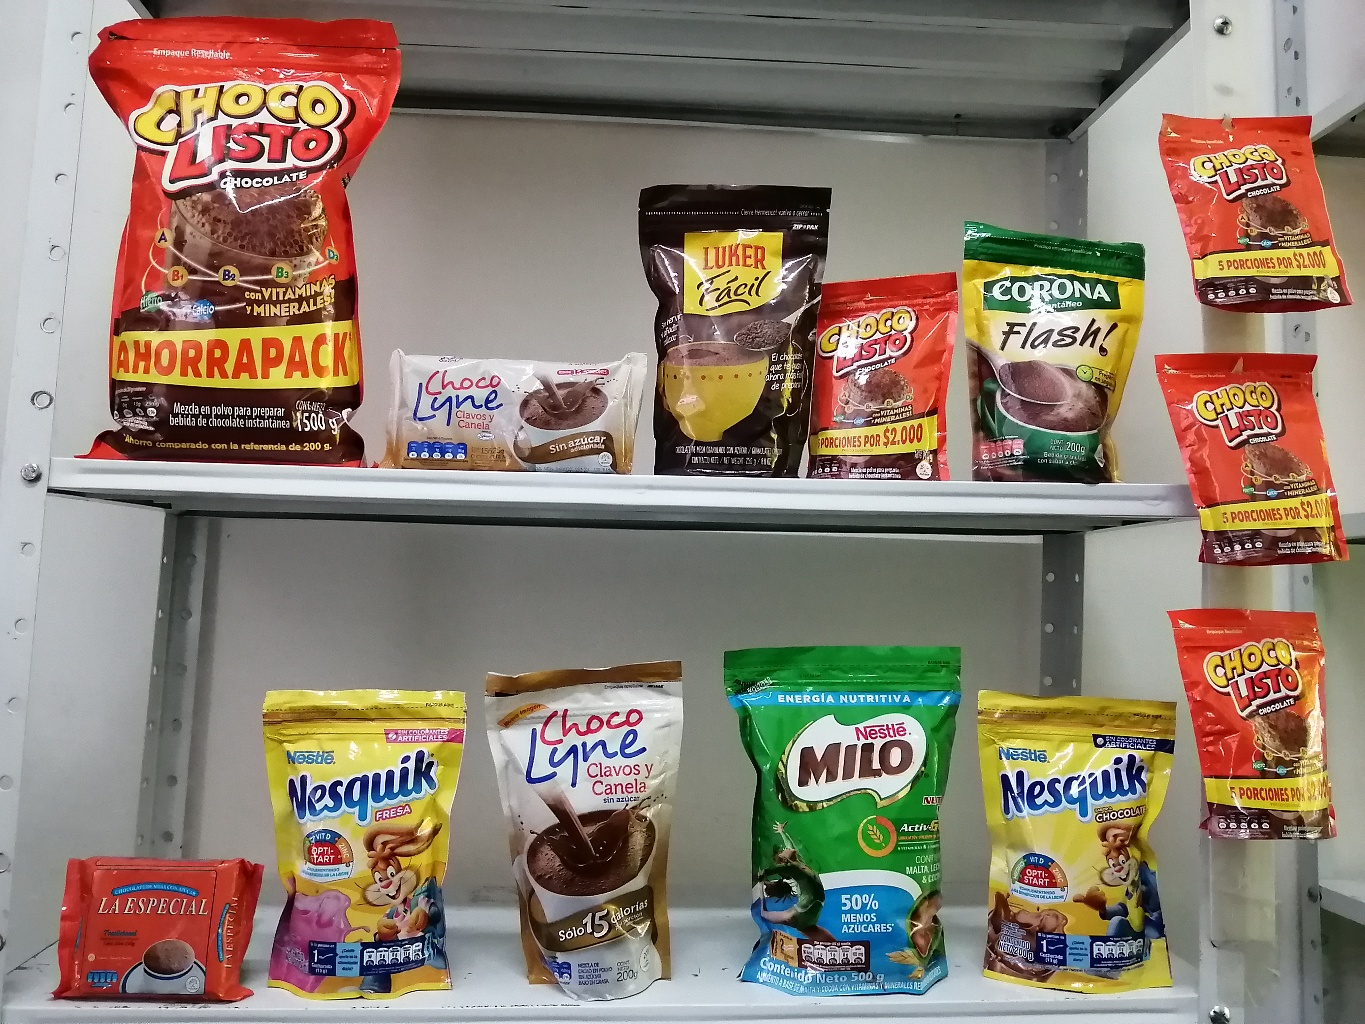COL0170103DYP1,500: (89, 6, 416, 469)
COL0170205DYP50000: (721, 636, 976, 1010)
COL0170303DYP20000: (967, 677, 1188, 1008)
COL0170305DYP20000: (255, 680, 479, 1008)
